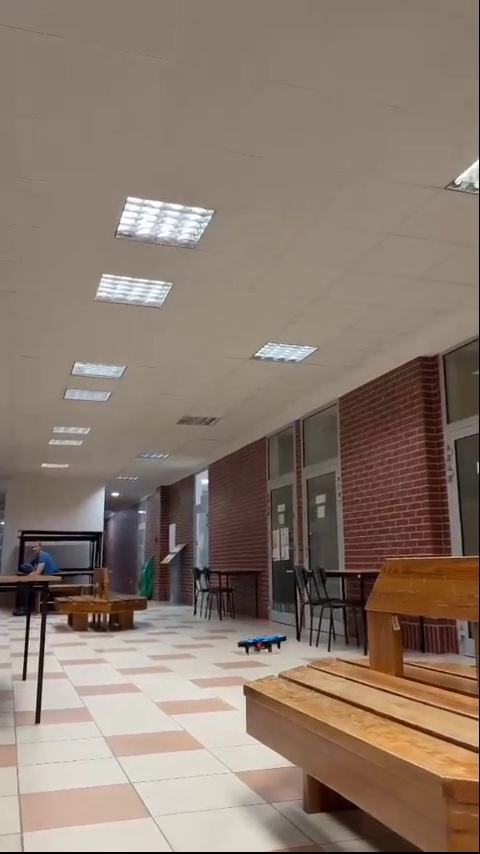drone: (239, 628, 288, 656)
no vest: (20, 530, 60, 602)
